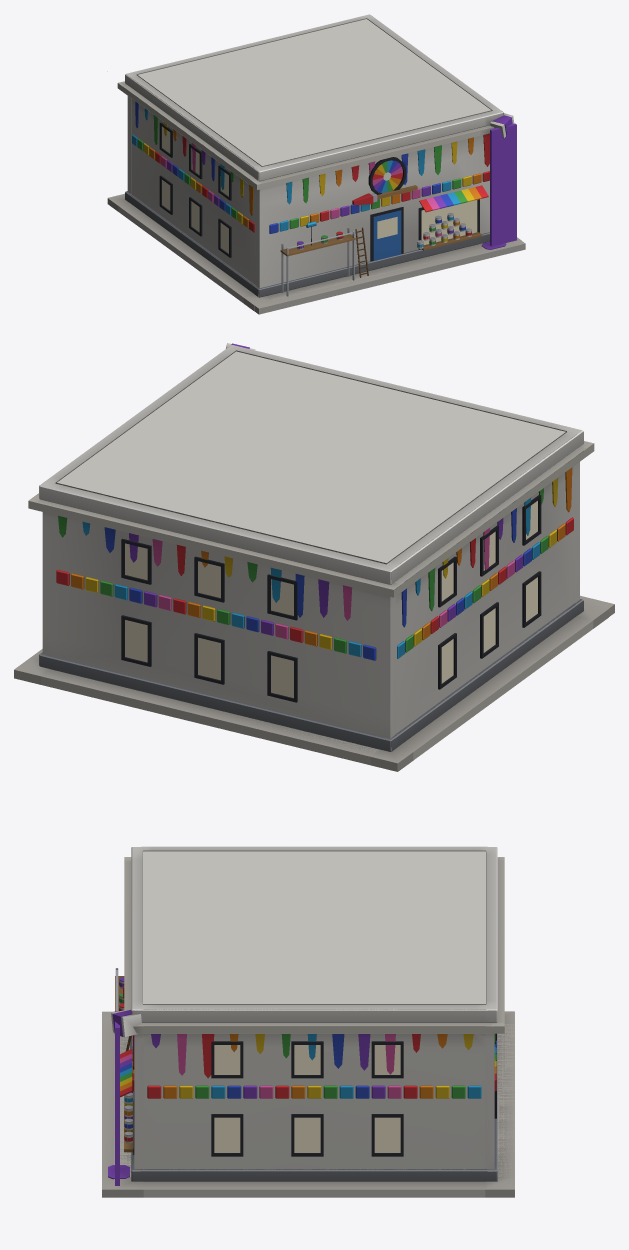
File: KaleidoChameleonFloor.fbx
3 renders of one model, top to bottom at view 1: azimuth 30°, elevation 25°; view 2: azimuth 150°, elevation 25°; view 3: azimuth 270°, elevation 25°, orthographic. The views are drawn at different scales.
Visible parts, largest first — view 1: PT_F_Rings, PT_S_All, PT_F_Smooth, PT_F_Quiet, PT_F_Glass, PT_F_Props; view 2: PT_F_Rings, PT_S_All, PT_F_Smooth, PT_F_Quiet, PT_F_Glass; view 3: PT_S_All, PT_F_Rings, PT_F_Smooth, PT_F_Quiet, PT_F_Glass, PT_F_Props.
Boxes of the visible parts, <box> form: PT_F_Rings: <box>118,14,503,288</box>; PT_S_All: <box>108,19,516,310</box>; PT_F_Smooth: <box>107,74,525,314</box>; PT_F_Quiet: <box>108,191,525,308</box>; PT_F_Glass: <box>162,126,477,253</box>; PT_F_Props: <box>281,113,514,254</box>; PT_F_Rings: <box>29,345,593,738</box>; PT_S_All: <box>14,351,608,771</box>; PT_F_Smooth: <box>14,430,614,771</box>; PT_F_Quiet: <box>14,595,614,763</box>; PT_F_Glass: <box>125,501,537,697</box>; PT_S_All: <box>114,851,514,1197</box>; PT_F_Rings: <box>124,846,504,1169</box>; PT_F_Smooth: <box>102,847,514,1197</box>; PT_F_Quiet: <box>102,1011,514,1189</box>; PT_F_Glass: <box>132,1036,400,1152</box>; PT_F_Props: <box>111,976,141,1095</box>.
Size of the model in its own units: 60 by 20 by 60.
